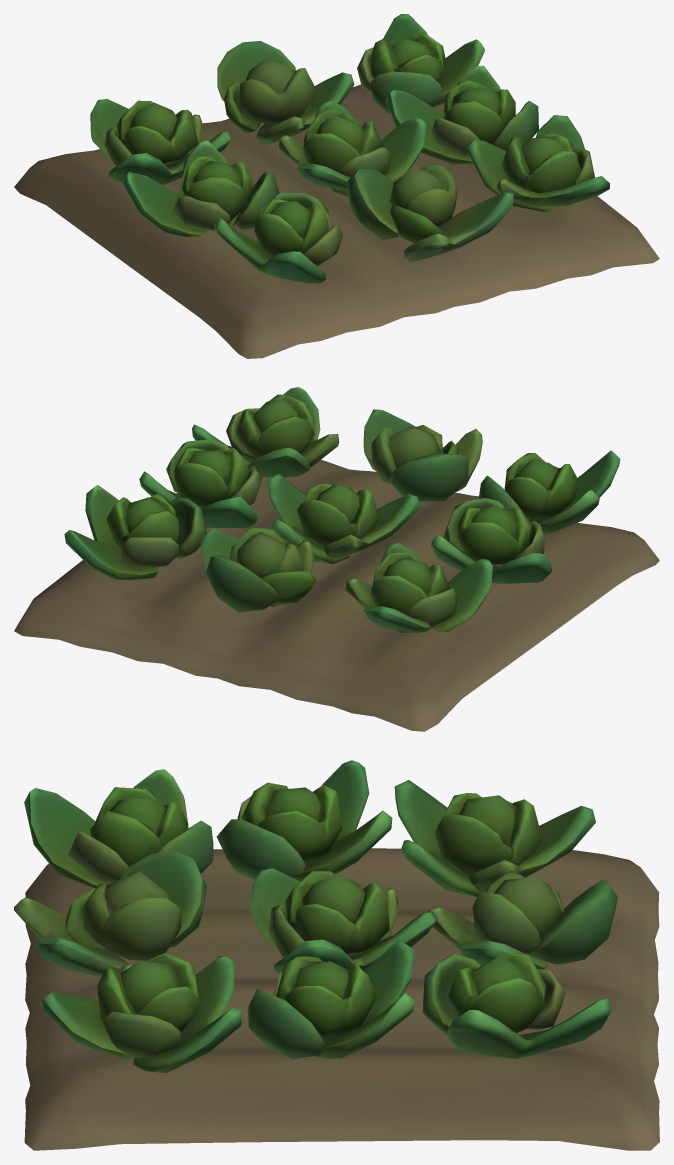
The model's file is SM_Crop_Lettuce_02.glb.
The picture shows the model from 3 angles, top to bottom: view 1: azimuth 30°, elevation 25°; view 2: azimuth 150°, elevation 25°; view 3: azimuth 270°, elevation 25°; orthographic projection. The views are drawn at different scales.
Parts seen in each view (by area): view 1: SM_Crop_Lettuce_02; view 2: SM_Crop_Lettuce_02; view 3: SM_Crop_Lettuce_02.
Part boxes in pixels (bbox=[...]): SM_Crop_Lettuce_02: bbox=[14, 14, 659, 358]; SM_Crop_Lettuce_02: bbox=[14, 387, 659, 731]; SM_Crop_Lettuce_02: bbox=[14, 760, 659, 1150].
Bounding box in the file's own units: 3.95 × 0.9924 × 4.
Materials: 1 (1 with a texture image).
